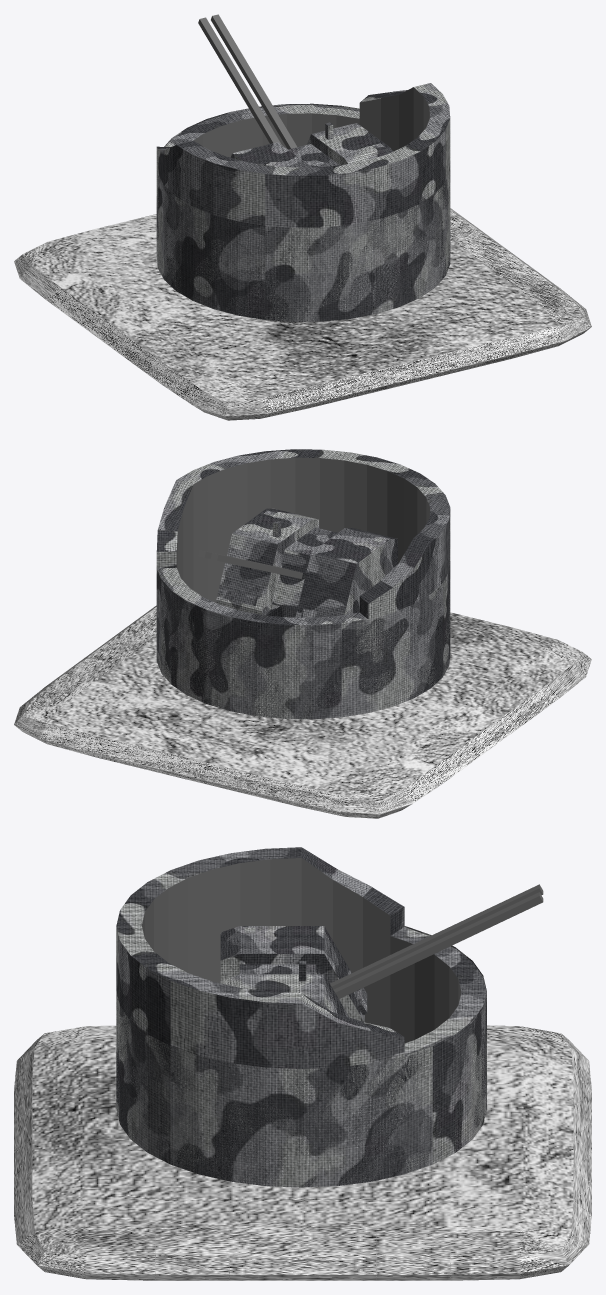
Rendered from air_gun.fbx.
3 renders of one model, top to bottom at view 1: azimuth 30°, elevation 25°; view 2: azimuth 150°, elevation 25°; view 3: azimuth 270°, elevation 25°, orthographic. The views are drawn at different scales.
Visible parts, largest first — view 1: Cylinder, Cube.002; view 2: Cylinder, Cube.002; view 3: Cylinder, Cube.002.
Boxes of the visible parts, <box> form: Cylinder: <box>156,14,450,321</box>; Cube.002: <box>14,208,591,420</box>; Cylinder: <box>156,449,450,719</box>; Cube.002: <box>14,605,591,818</box>; Cylinder: <box>116,847,543,1187</box>; Cube.002: <box>14,1025,591,1280</box>.
Bounding box in the file's own units: 1521 × 822 × 1521.
Materials: 3 (2 with a texture image).
